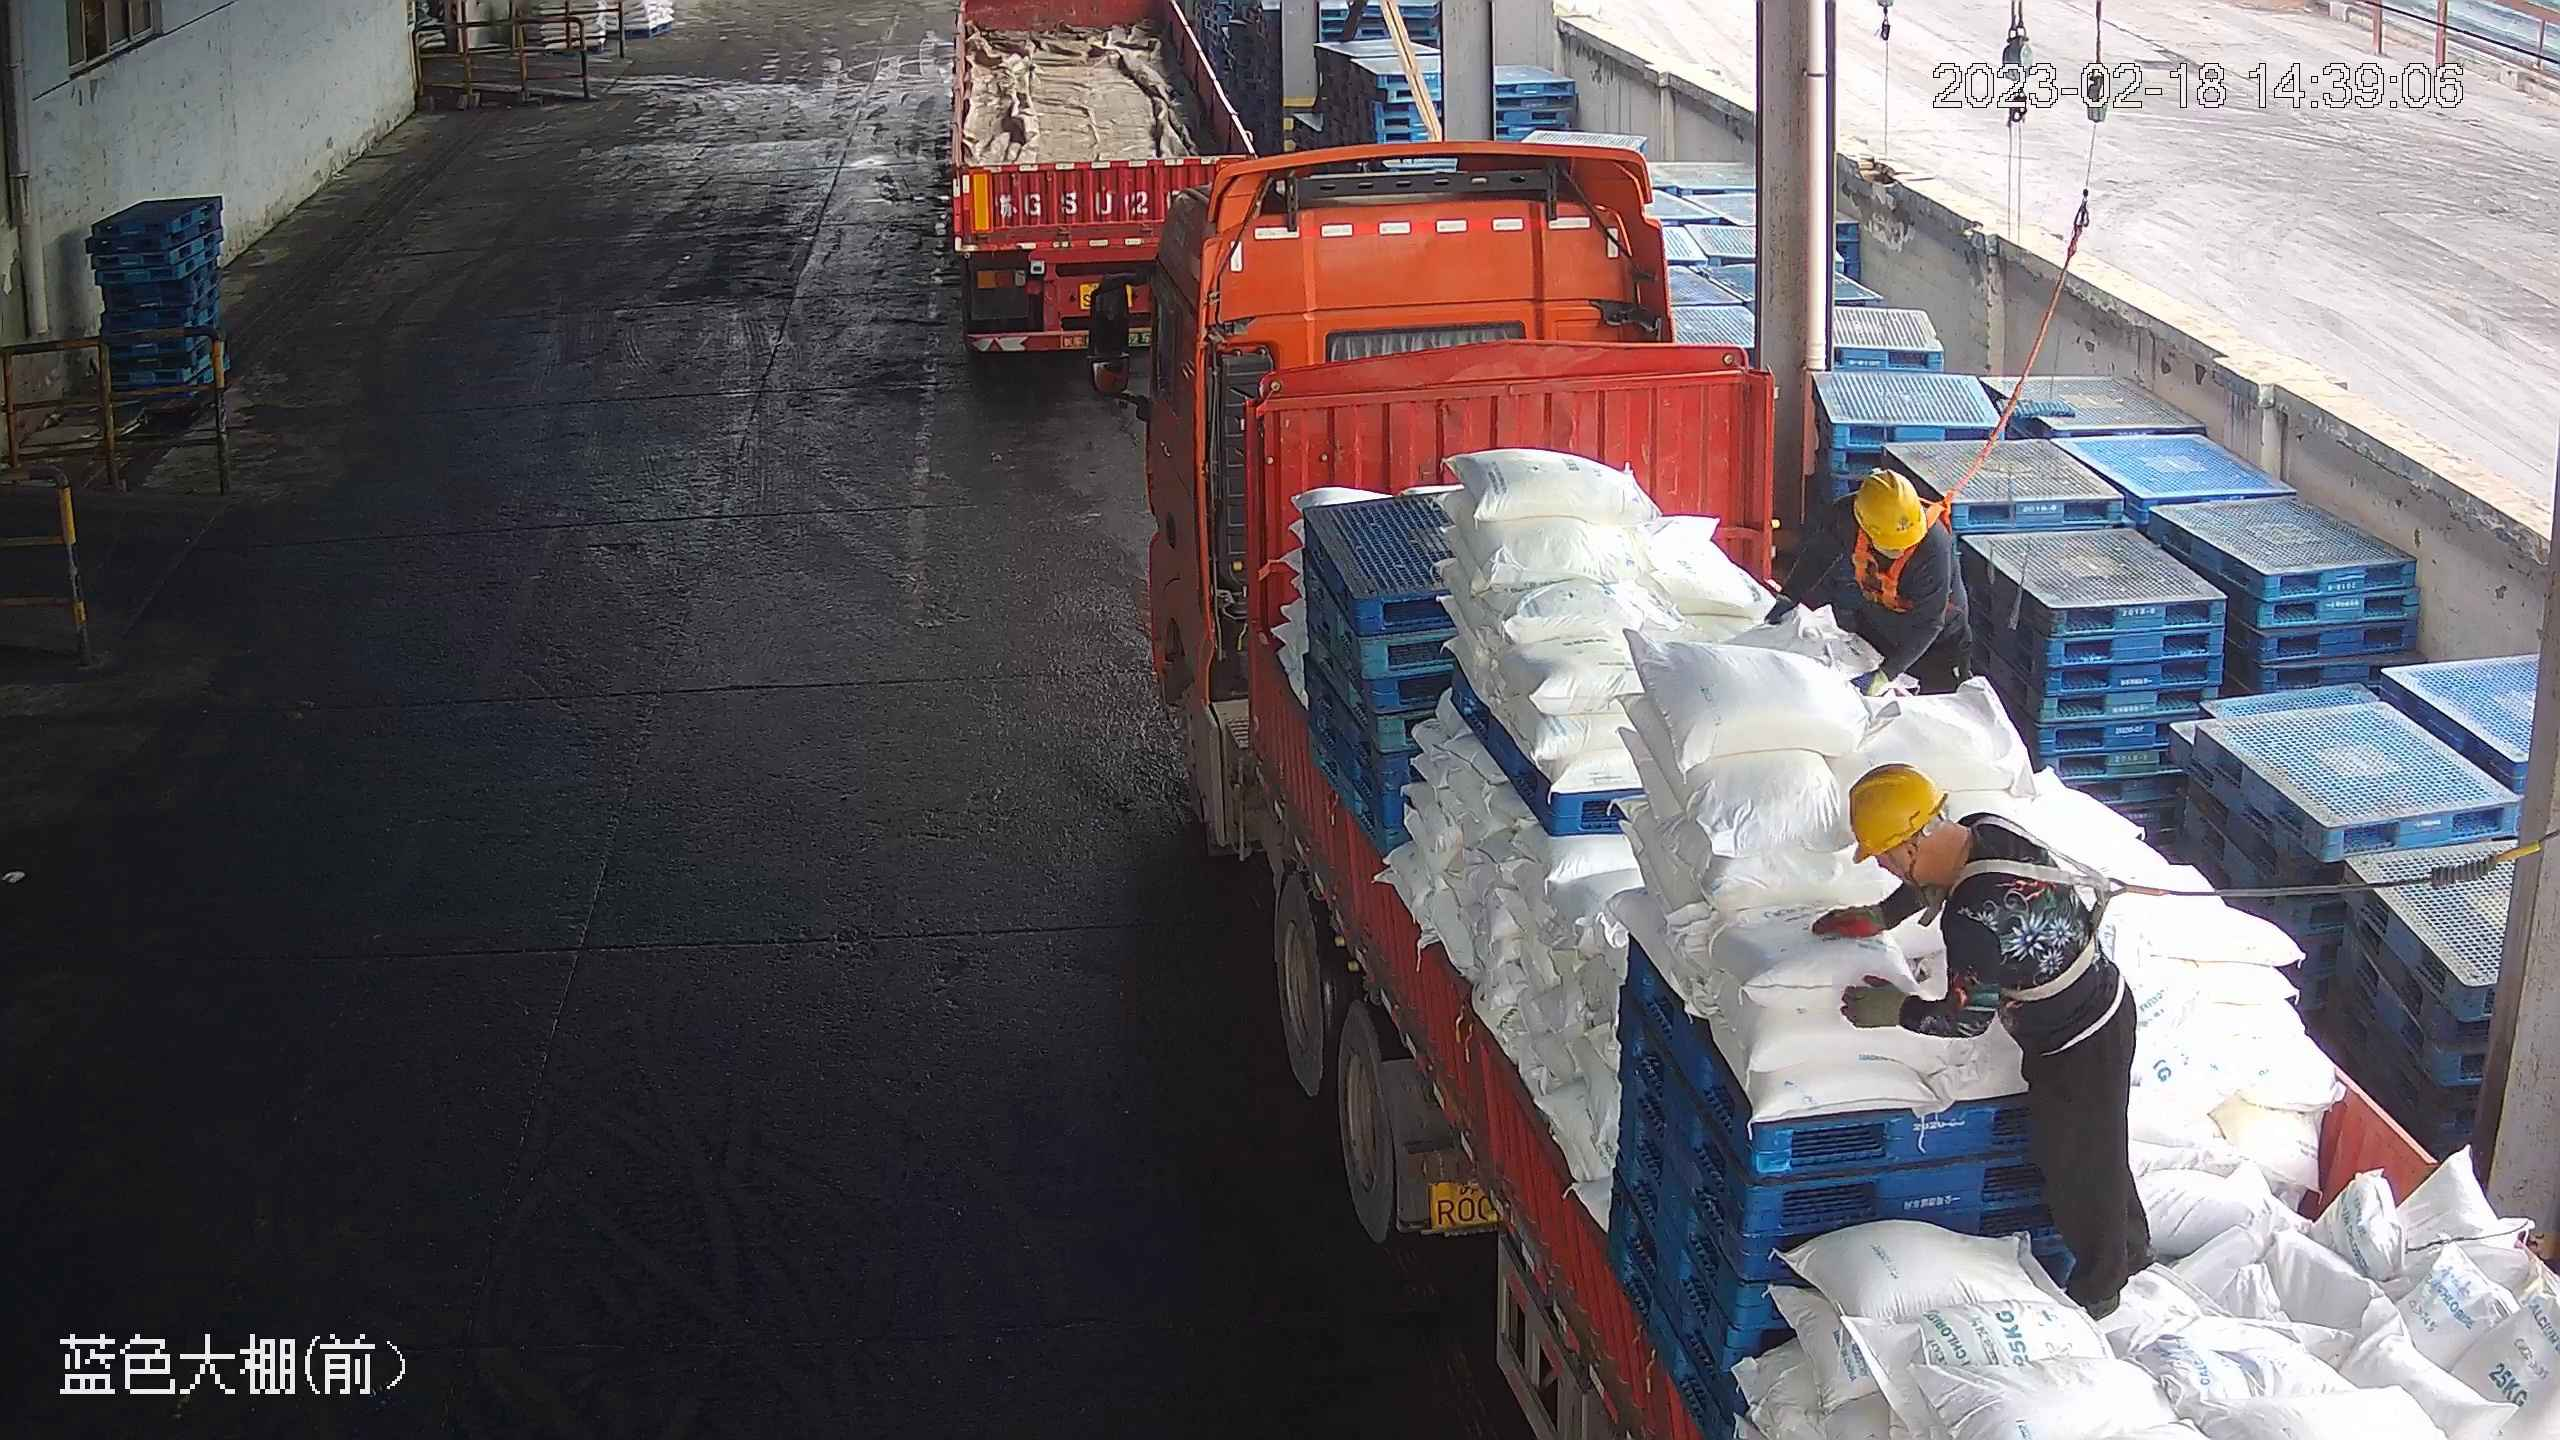belt: (1955, 839, 2145, 1010), (1846, 528, 1935, 609)
head: (1840, 760, 2075, 945), (1808, 465, 1964, 593)
helmet: (1846, 758, 1949, 864), (1851, 468, 1927, 550)
people: (1808, 757, 2156, 1326), (1766, 466, 1980, 730)
truck: (1112, 152, 2549, 1434), (932, 9, 1269, 358)
